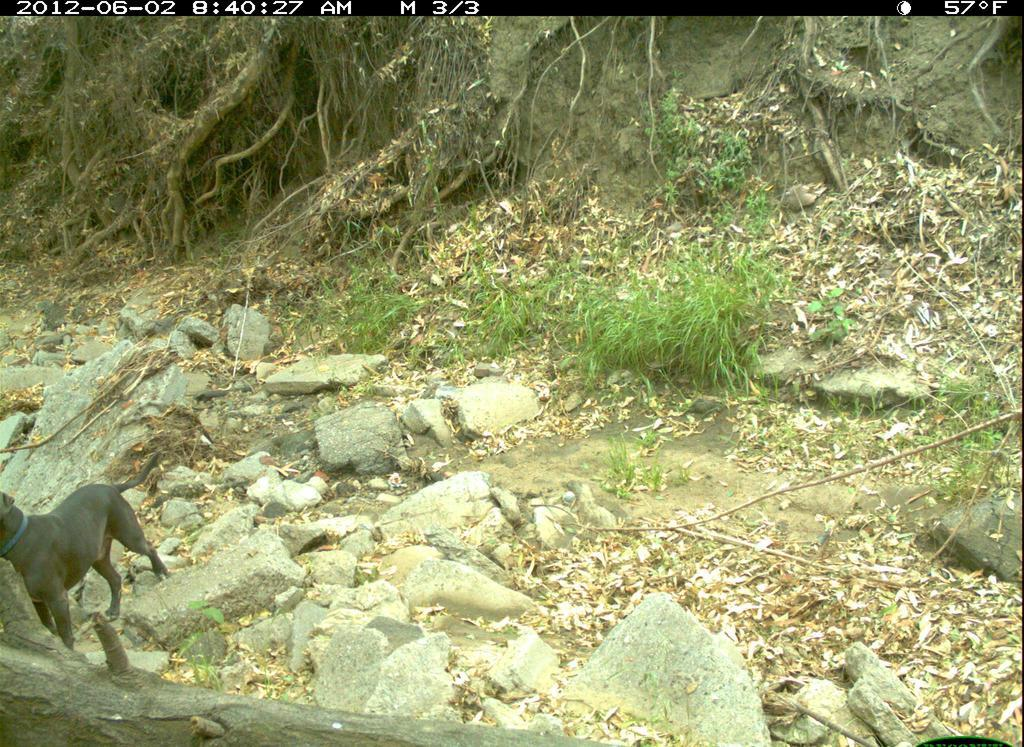dog: (1, 445, 172, 654)
